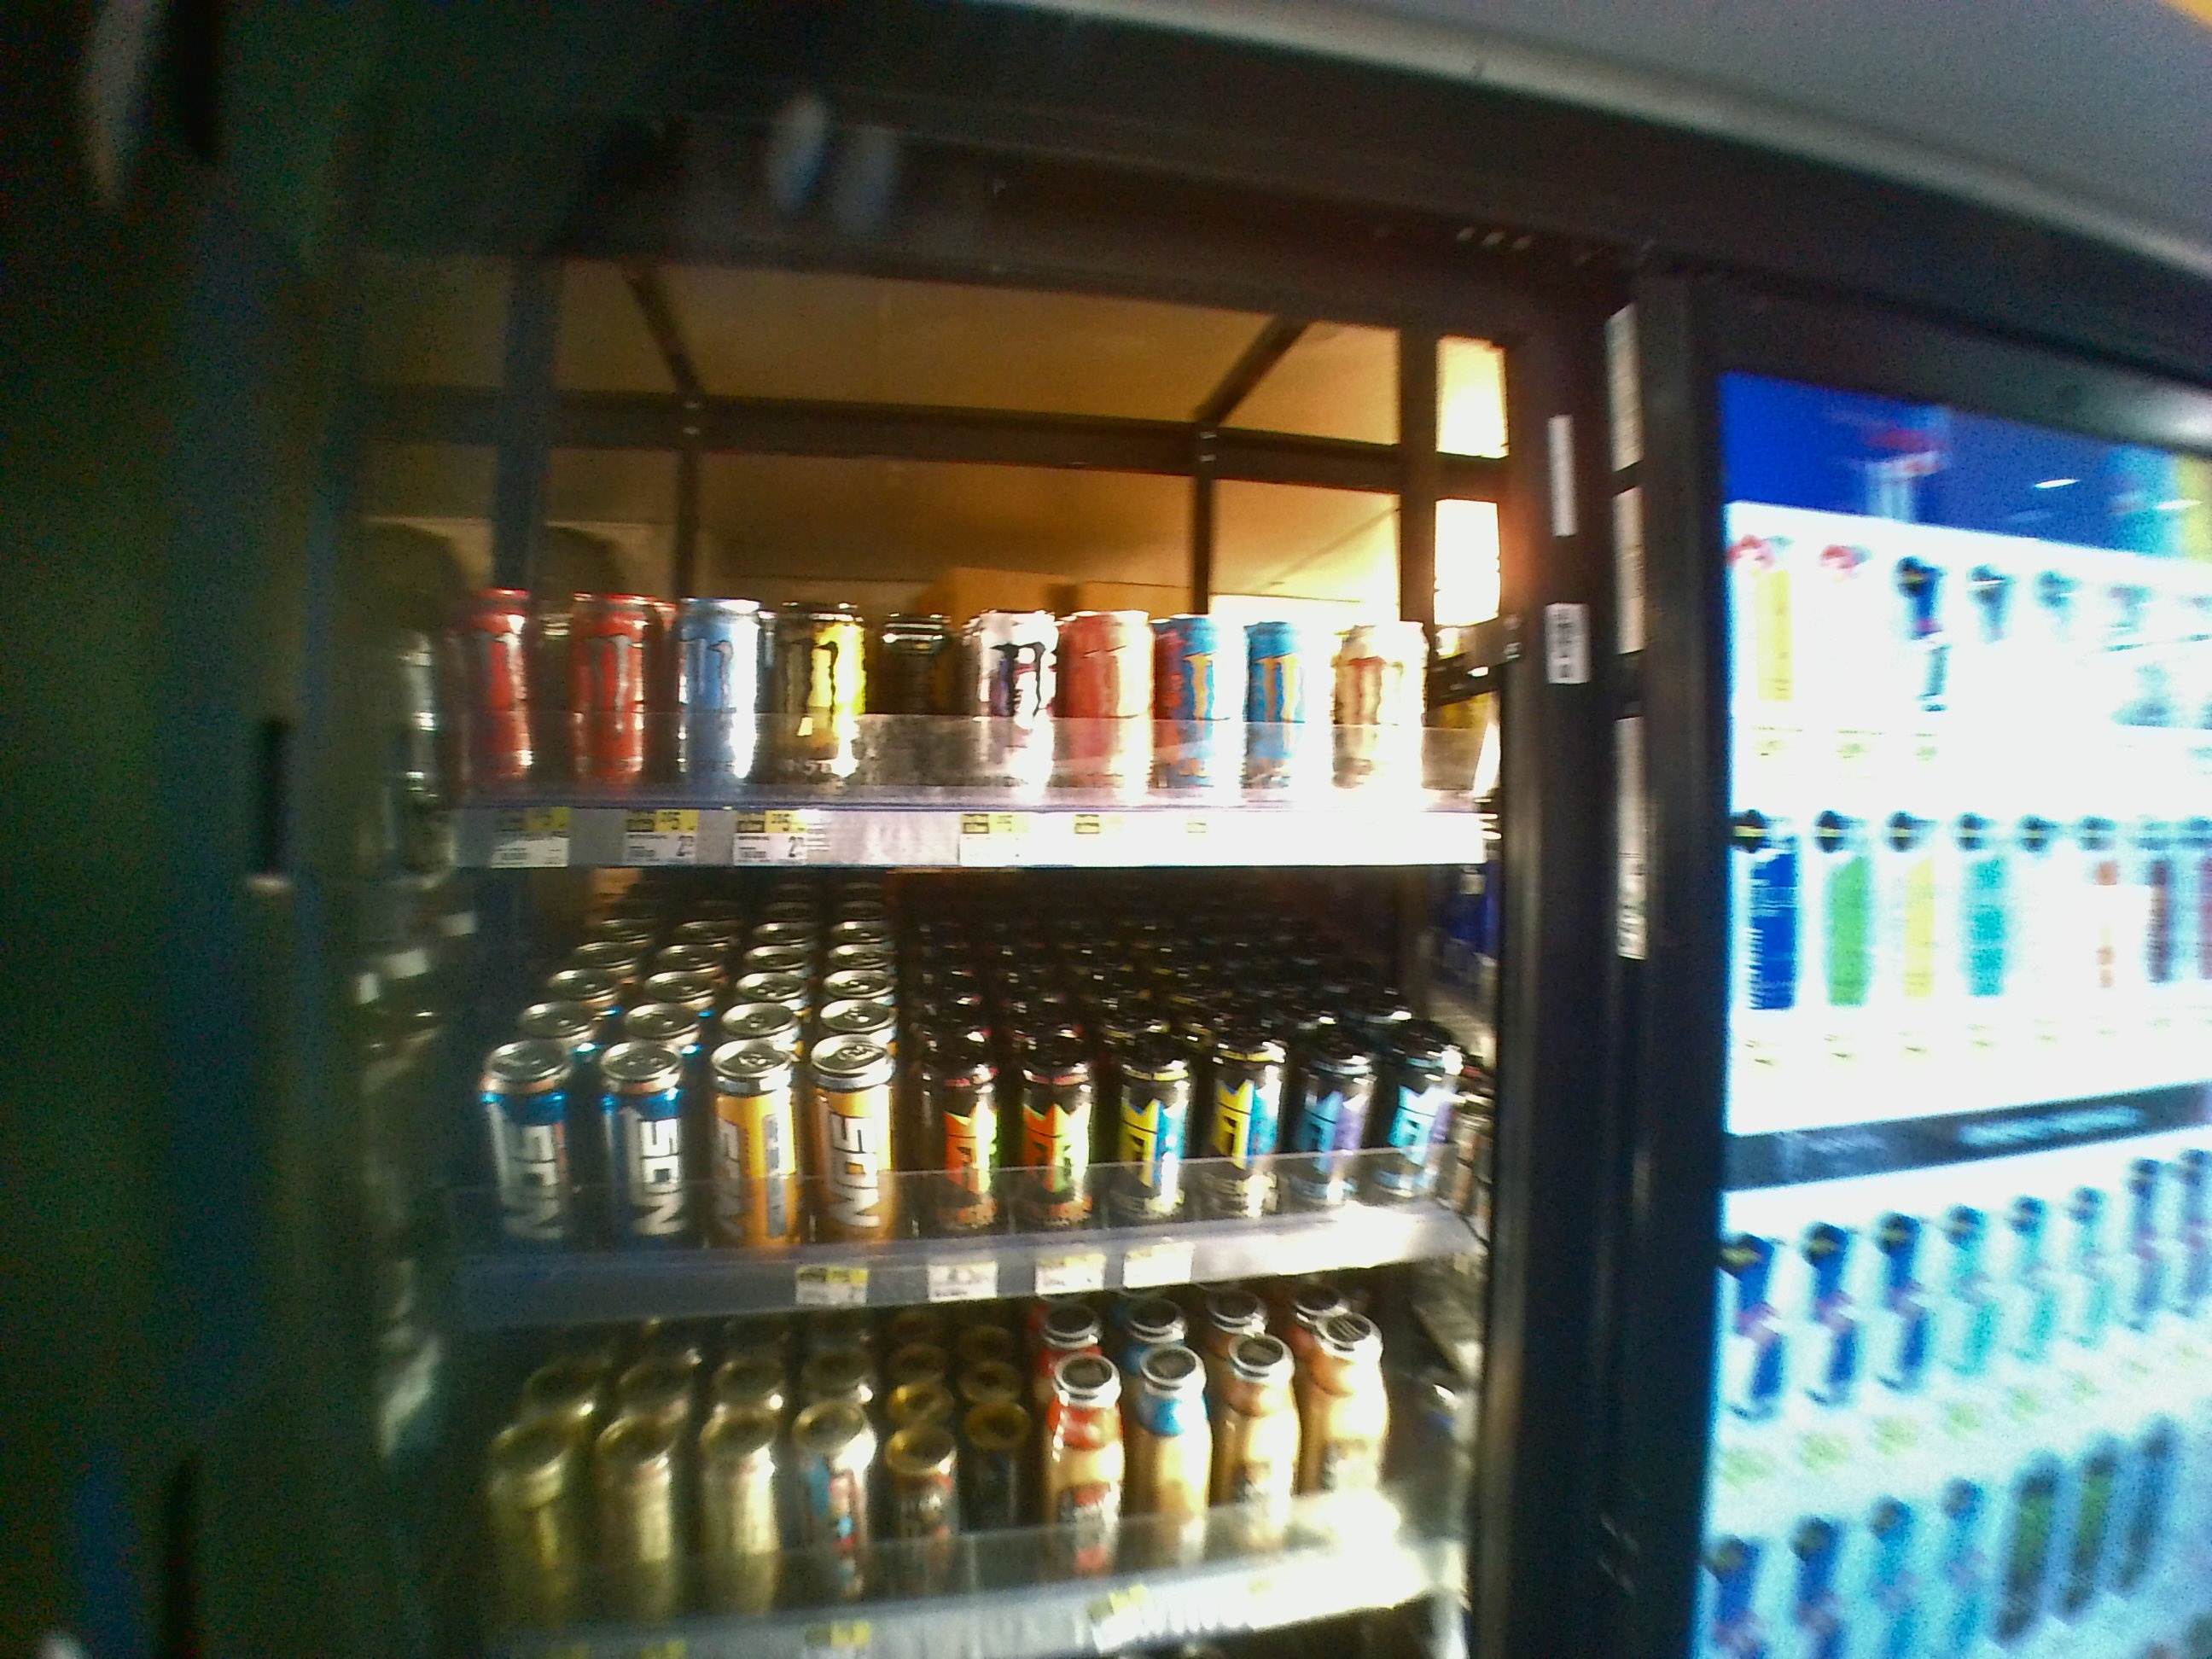shelf: (364, 258, 1529, 864), (366, 861, 1531, 1312)
